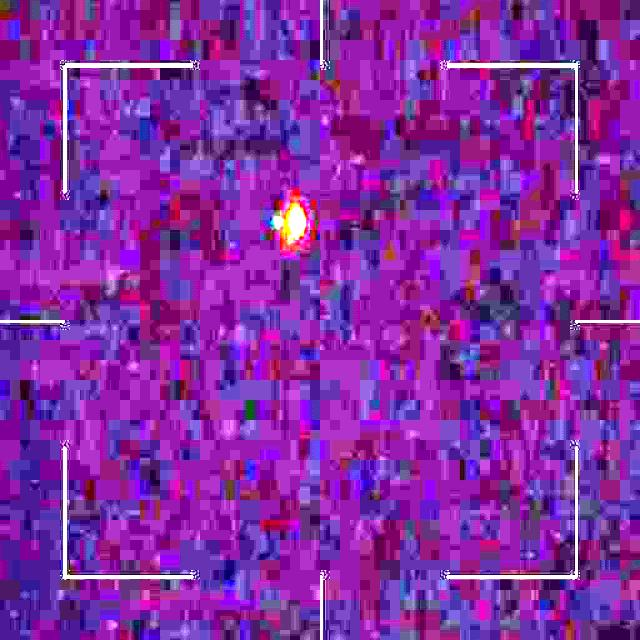bird: (275, 205, 308, 254)
